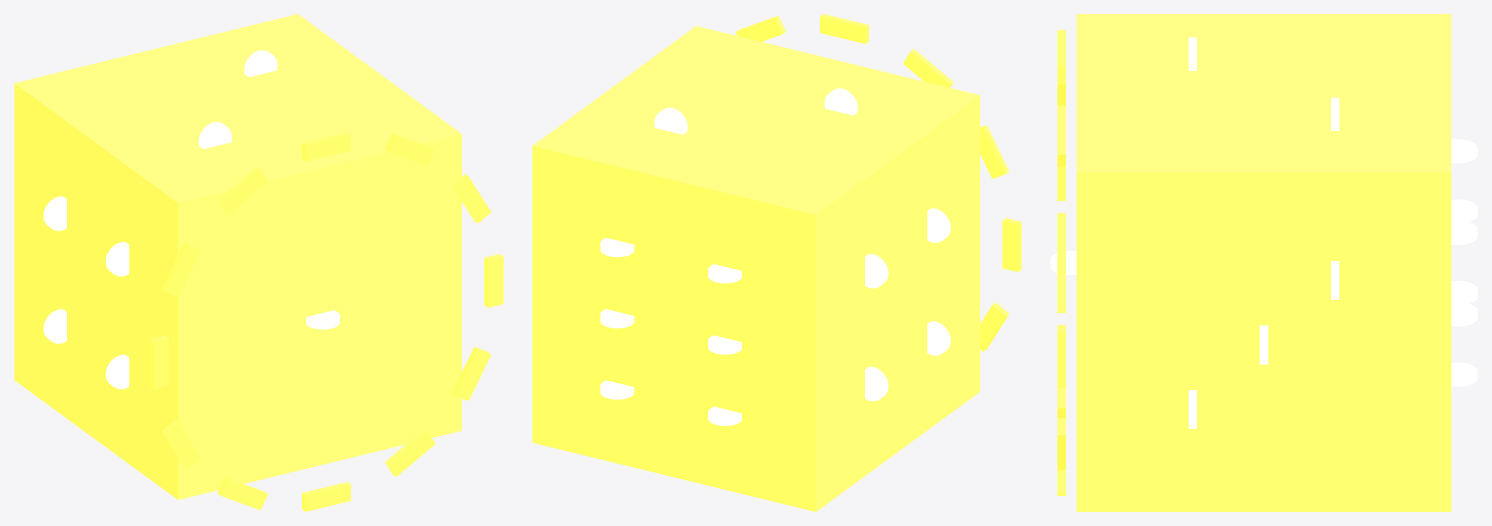
File: Dice_Lion.gltf
3 renders of one model, left to right at view 1: azimuth 30°, elevation 25°; view 2: azimuth 150°, elevation 25°; view 3: azimuth 270°, elevation 25°, orthographic. The views are drawn at different scales.
Parts seen in each view (by area): view 1: Dice_Lion_body, lion_mane_rune (×12), pip_4 (×4), pip_2 (×2); view 2: Dice_Lion_body, lion_mane_rune (×6), pip_4 (×4), pip_2 (×2); view 3: Dice_Lion_body, pip_6 (×6), lion_mane_rune (×3).
Part boxes in pixels (x1=…): Dice_Lion_body: x1=14, y1=14, x2=461, y2=499; lion_mane_rune (×12): x1=149, y1=131, x2=503, y2=511; pip_4 (×4): x1=43, y1=196, x2=129, y2=389; pip_2 (×2): x1=198, y1=50, x2=277, y2=149; Dice_Lion_body: x1=532, y1=26, x2=979, y2=511; lion_mane_rune (×6): x1=735, y1=14, x2=1021, y2=351; pip_4 (×4): x1=865, y1=208, x2=950, y2=401; pip_2 (×2): x1=654, y1=88, x2=857, y2=134; Dice_Lion_body: x1=1076, y1=14, x2=1451, y2=511; pip_6 (×6): x1=1451, y1=139, x2=1477, y2=386; lion_mane_rune (×3): x1=1057, y1=105, x2=1065, y2=387.
Bounding box in the file's own units: 2.47 × 2.47 × 2.28.
